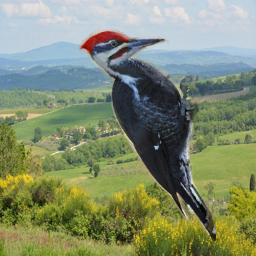Woodpecker: (78, 29, 216, 241)
